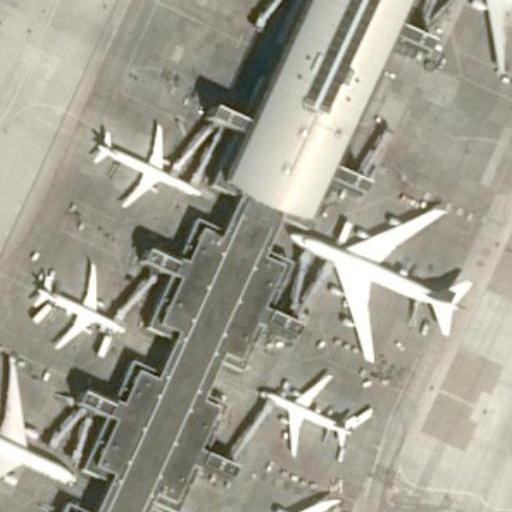Aircraft: (277, 190, 473, 364), (76, 115, 209, 214), (0, 342, 76, 505), (251, 362, 377, 457), (23, 256, 133, 352), (425, 0, 512, 77), (155, 484, 371, 512)
